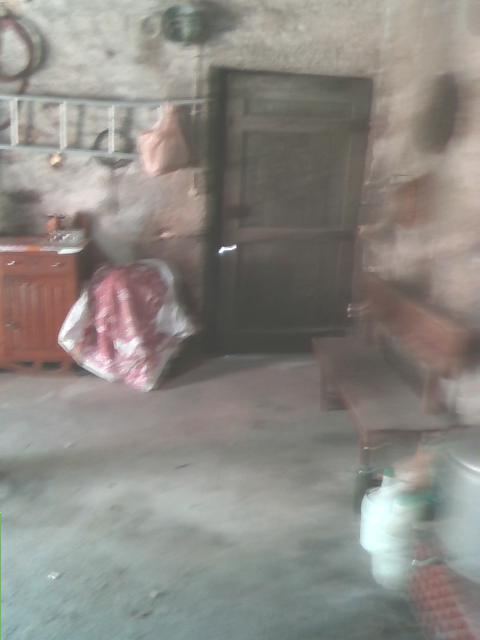closed_door: (205, 61, 372, 331)
